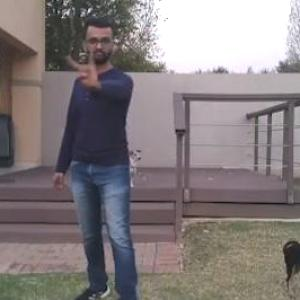takeoff-hand: (60, 42, 117, 97)
